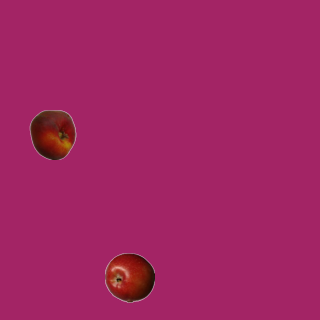Apple Braeburn: (104, 252, 154, 302)
Nectarine Flat: (27, 109, 77, 159)
